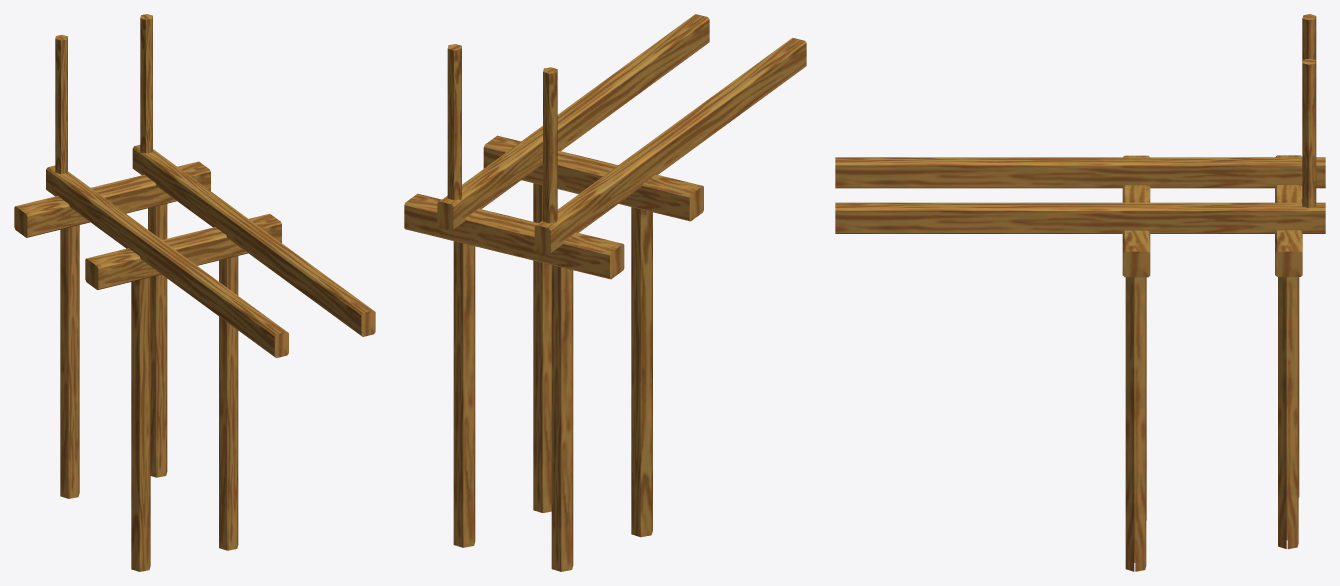
Rendered from biabridge.dae.
3 renders of one model, left to right at view 1: azimuth 30°, elevation 25°; view 2: azimuth 150°, elevation 25°; view 3: azimuth 270°, elevation 25°, orthographic. The views are drawn at different scales.
Visible parts, largest first — view 1: m0; view 2: m0; view 3: m0.
Boxes of the visible parts, box(x1,y1,x2,y2) form: m0: box(14, 14, 375, 571); m0: box(404, 14, 806, 571); m0: box(835, 14, 1325, 571).
Size of the model in its own units: 1313 by 3217 by 2831.
Materials: 1 (1 with a texture image).
